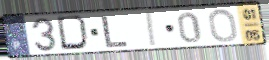0: (175, 11, 204, 44)
3: (31, 17, 58, 54)
D: (55, 14, 93, 52)
I: (145, 10, 158, 48)
L: (101, 15, 131, 49)
O: (207, 8, 239, 44)
